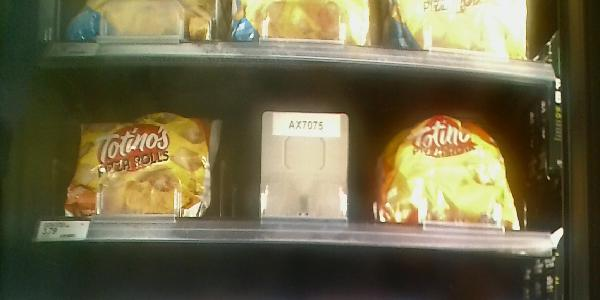icecream: (378, 106, 527, 239), (73, 100, 213, 234)
